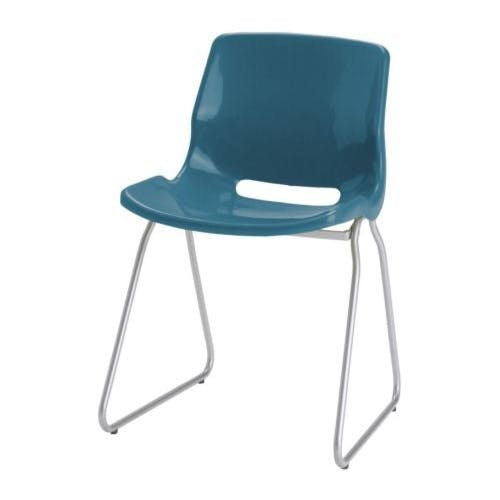chairs: (96, 32, 404, 476)
